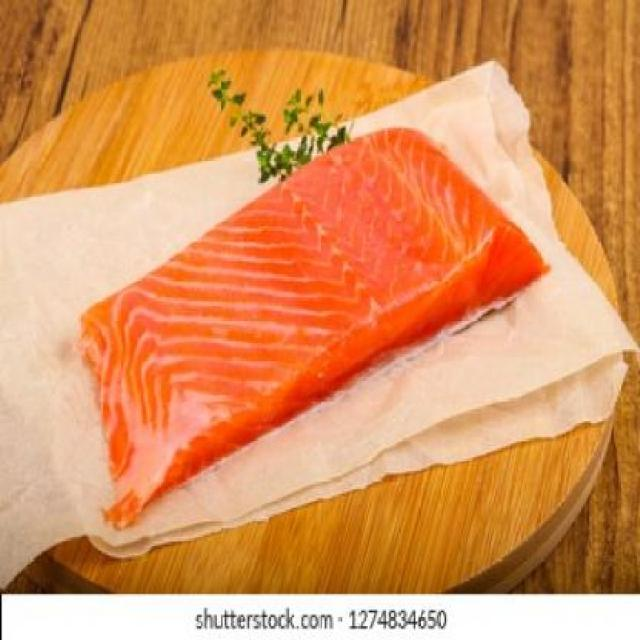salmon: (68, 130, 530, 492)
